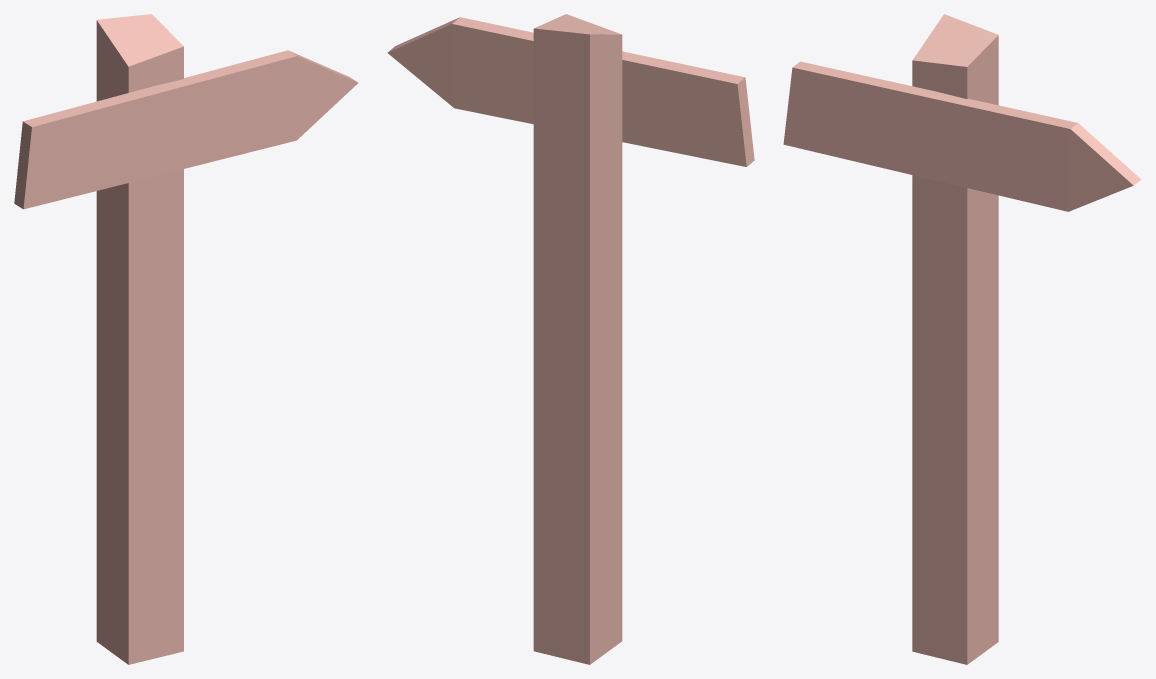
File: Mega_Asset_s_Pack_Cube_313.FBX
3 renders of one model, left to right at view 1: azimuth 30°, elevation 25°; view 2: azimuth 150°, elevation 25°; view 3: azimuth 330°, elevation 25°, orthographic. The views are drawn at different scales.
Parts seen in each view (by area): view 1: Mega_Asset_s_Pack_Cube_313; view 2: Mega_Asset_s_Pack_Cube_313; view 3: Mega_Asset_s_Pack_Cube_313.
Boxes of the visible parts, bbox=[...] form: Mega_Asset_s_Pack_Cube_313: bbox=[14, 14, 358, 664]; Mega_Asset_s_Pack_Cube_313: bbox=[387, 14, 754, 664]; Mega_Asset_s_Pack_Cube_313: bbox=[783, 14, 1141, 664].
Size of what is drawn, in the model's own units: 161 by 36.07 by 277.
